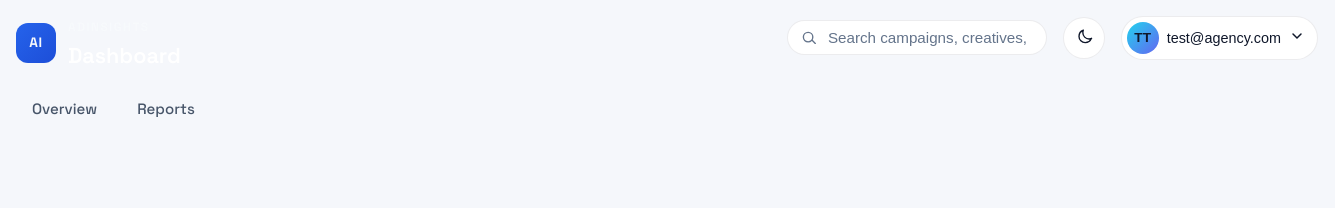
Scenario: Header › opens user menu on click and shows sign out button
Step 1. Click the button "TT test@agency.com" → {"x": 1219, "y": 38}, box [1121,16,1318,60]
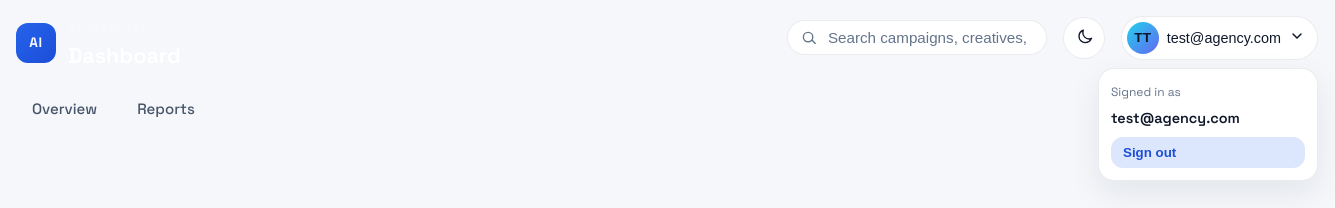
Expected: the menu item "Sign out" is shown, [1111,137,1305,168]
